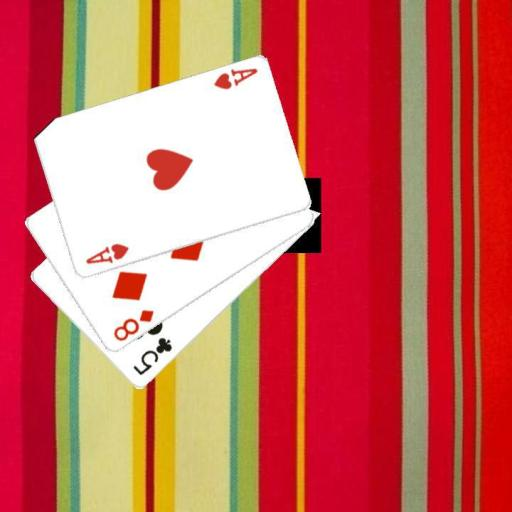5C: (130, 334, 175, 378)
8D: (110, 307, 156, 344)
AH: (210, 65, 259, 92), (83, 240, 130, 266)
